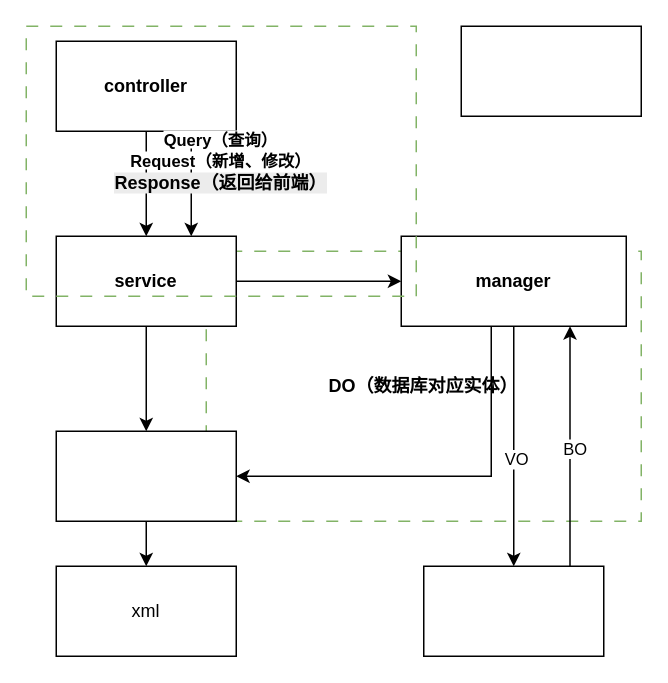
Image size: 668x683. Some labels were removed from this diagram. The centre of each missing label's shape, as x and y in pixels:
"mapper" belongs at point 145,475.
"接入Dubbo服务 第三方" belongs at point 513,610.
"提供Dubbo服务" belongs at point 550,70.
